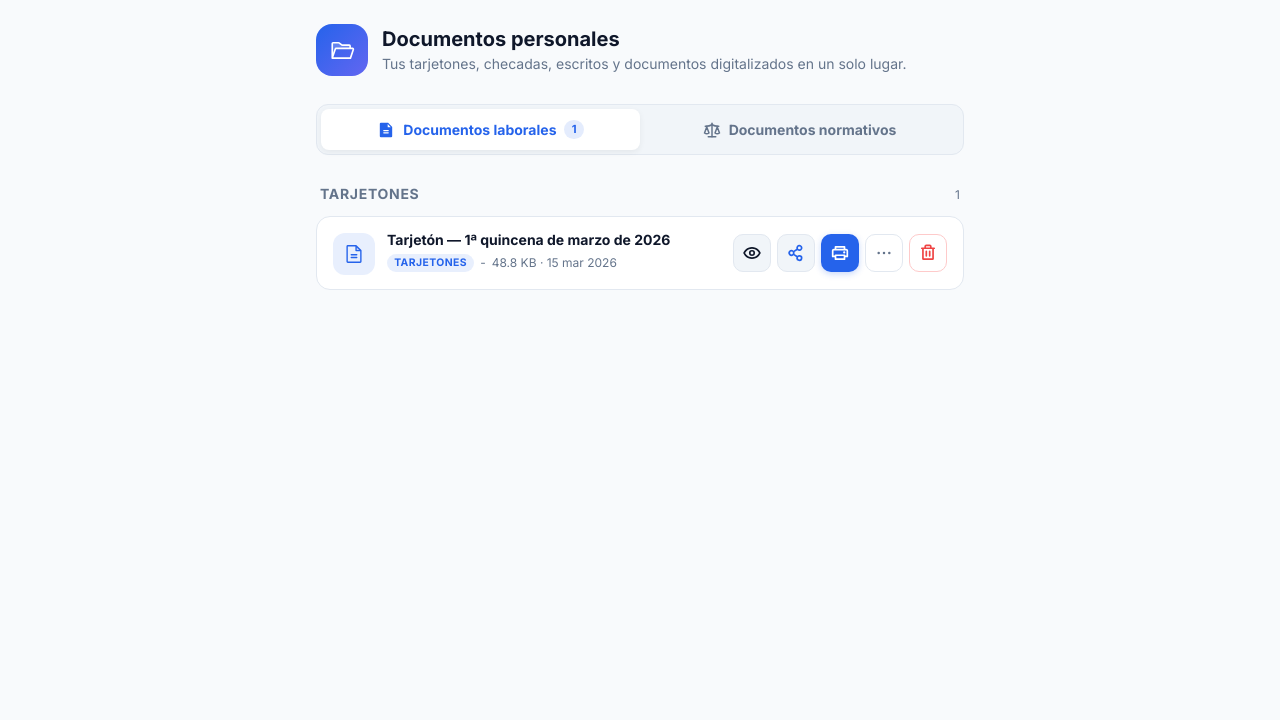
Scenario: DocumentosPersonales (Integración con Escritos y Panel Inline) › muestra el modal de confirmación contextual y elimina un tarjetón nativo con deleteNativeDocumentById
Check: the text "Tarjetón — 1ª quincena de marzo de 2026" is shown, box [387, 231, 719, 250]
// Pulsar botón eliminar
Click the button named "Eliminar documento": (928, 253) [909, 234, 947, 272]
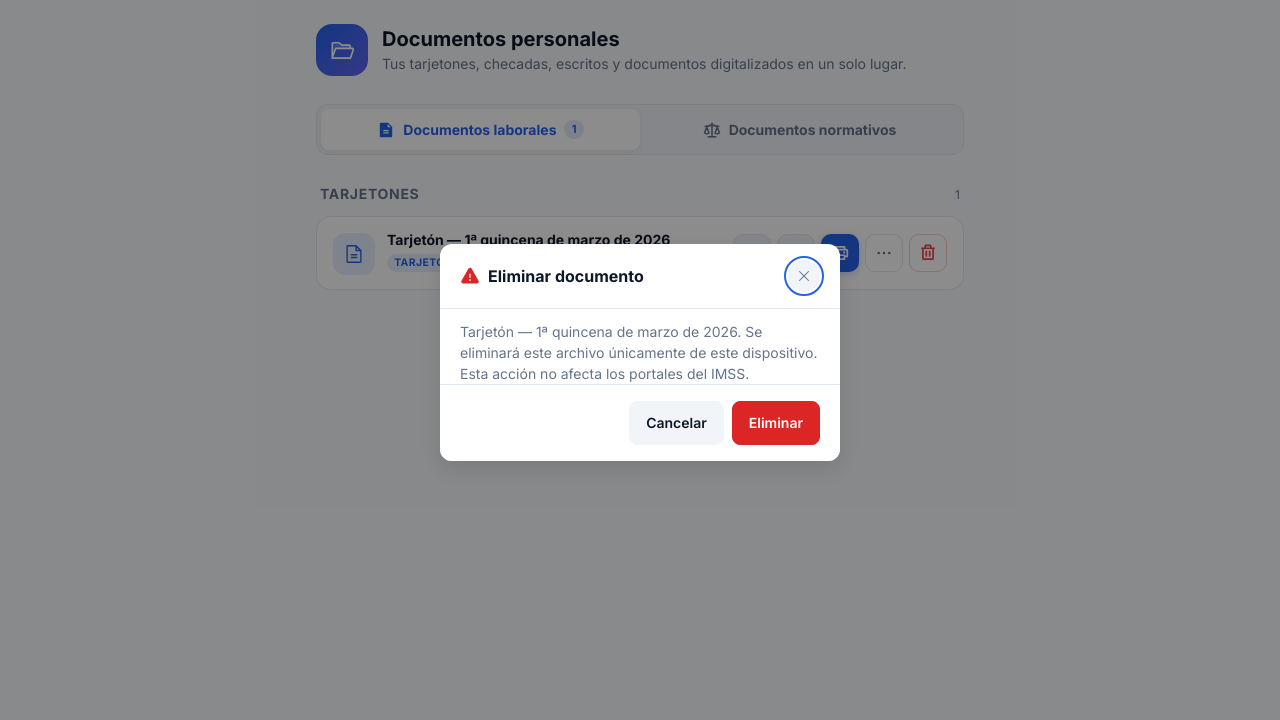
Check: the dialog is shown, box [440, 244, 840, 461]
Check: the text "Eliminar documento" is shown, box [460, 264, 644, 288]
Check: the text "Se eliminará este archivo únicamente de este dispositivo" is shown, box [460, 323, 817, 382]
// Pulsar Cancelar: no debe borrar
Click the button "Cancelar": (676, 423) [629, 401, 724, 445]
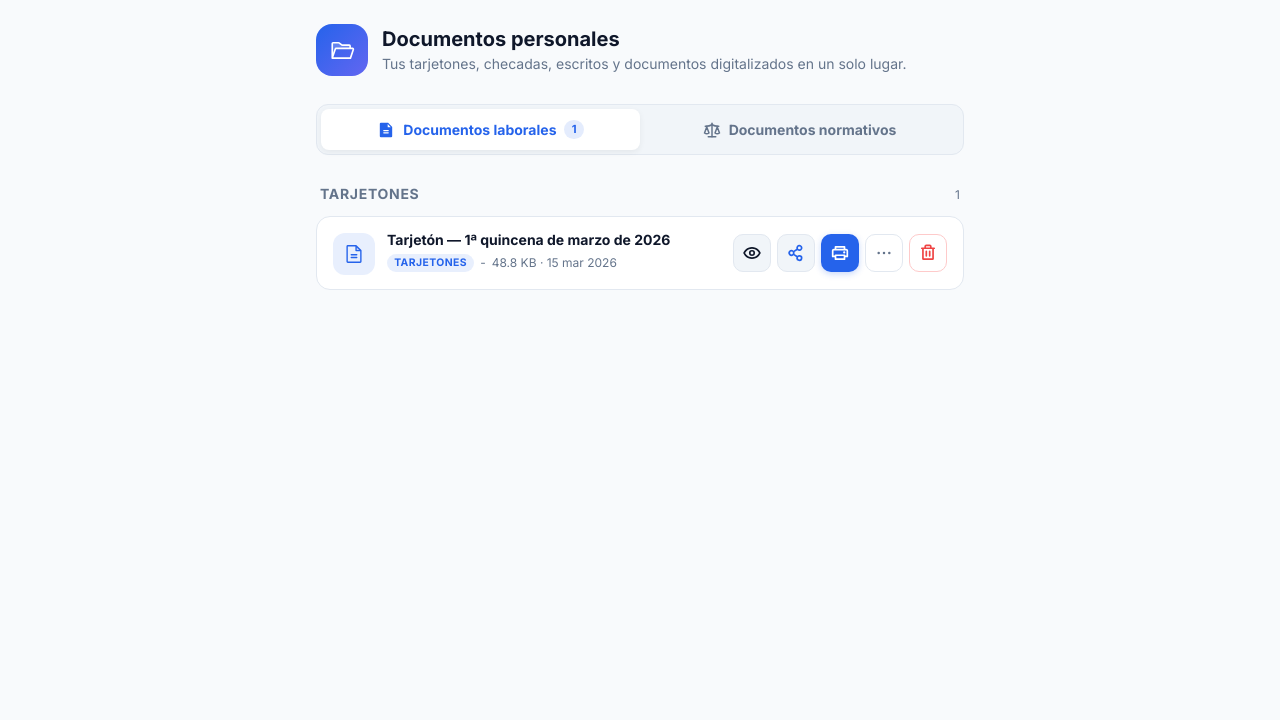
Check: the dialog is gone
// Volver a pulsar Eliminar en la tarjeta y confirmar en el modal
Click the button named "Eliminar documento": (928, 253) [909, 234, 947, 272]
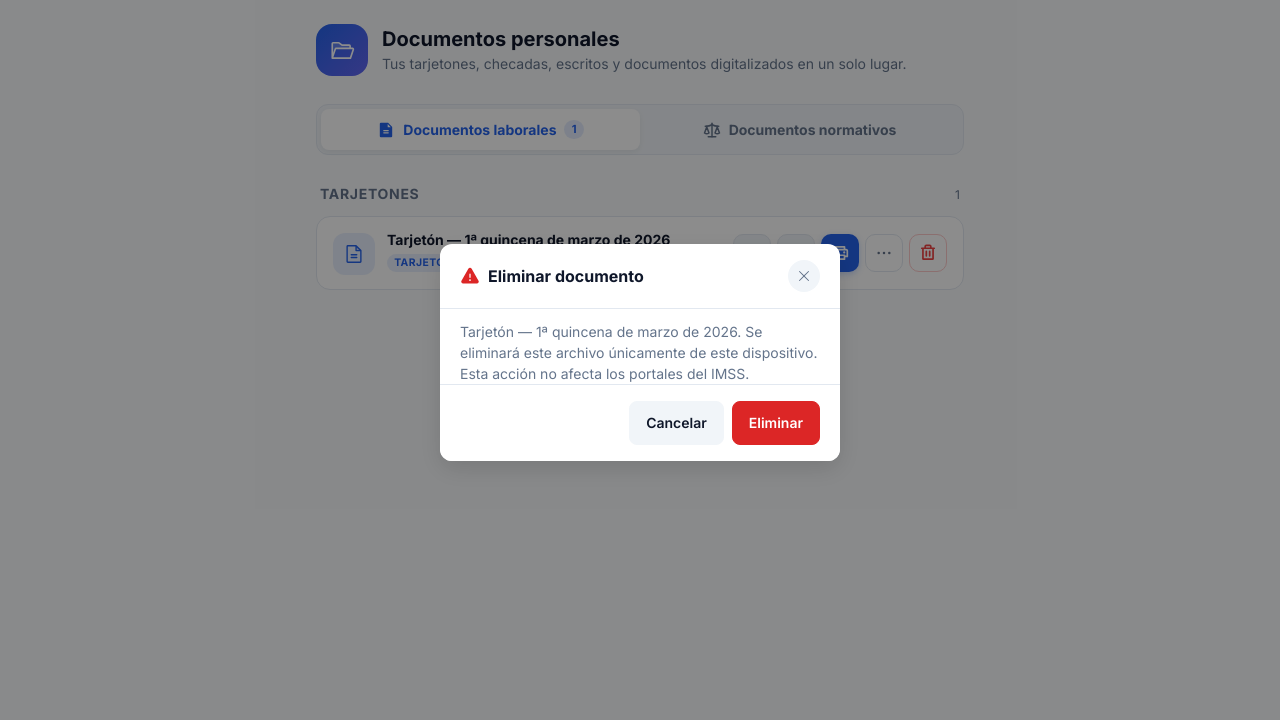
Click the button "Eliminar": (776, 423) [732, 401, 820, 445]
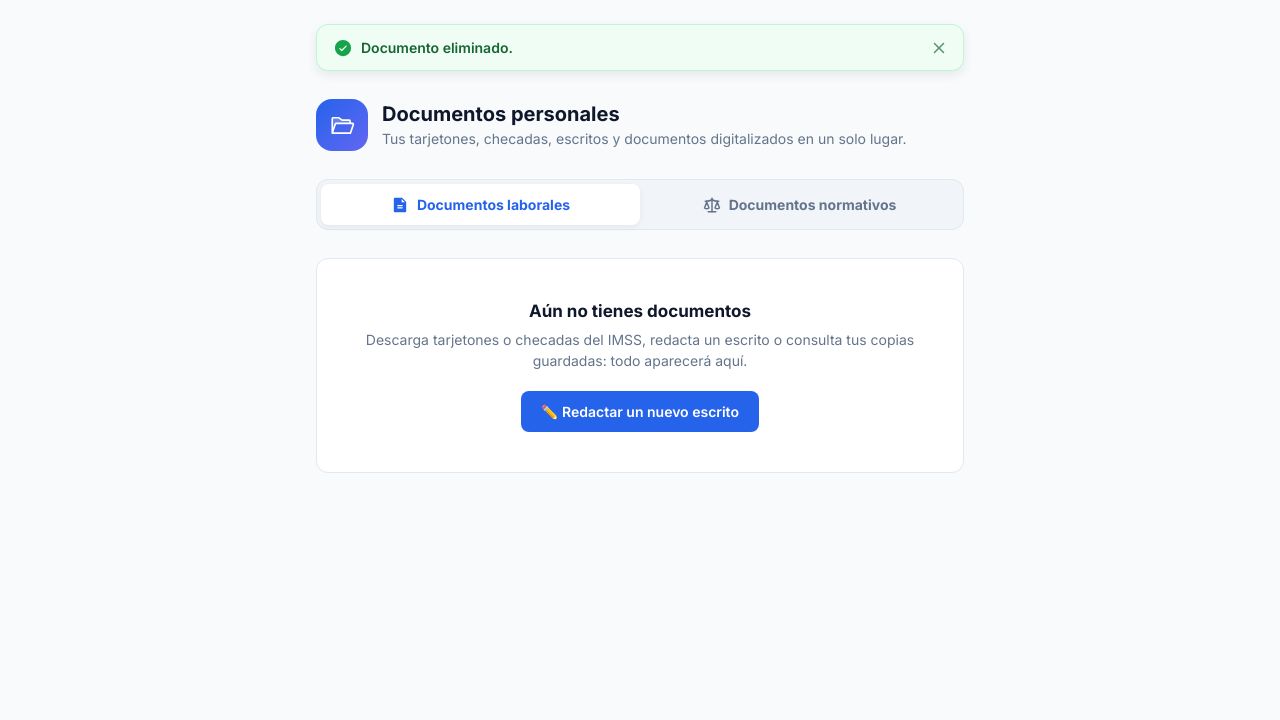
Check: the text "Documento eliminado." is shown, box [361, 37, 513, 58]
Check: the text "Tarjetón — 1ª quincena de marzo de 2026" is gone
